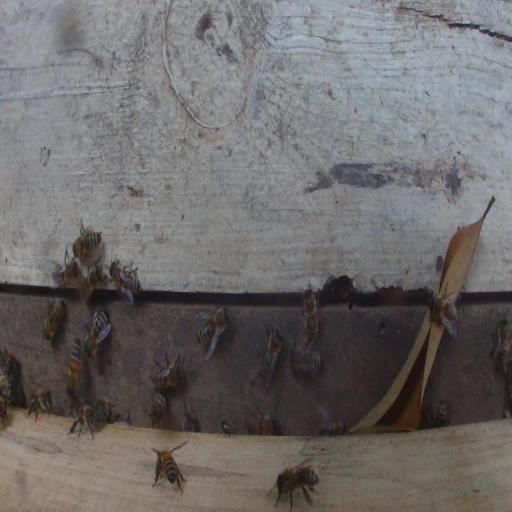nonpollenbee: (269, 459, 319, 509), (197, 304, 231, 362), (257, 324, 284, 388), (152, 444, 186, 492), (83, 306, 111, 362), (108, 259, 140, 306), (428, 292, 459, 338), (52, 244, 81, 288), (289, 339, 322, 376), (151, 352, 183, 390), (73, 220, 103, 259), (69, 400, 98, 439), (43, 296, 66, 342), (65, 337, 81, 398), (26, 387, 53, 422), (85, 261, 109, 297), (493, 322, 508, 379), (303, 289, 319, 341), (1, 346, 19, 388), (245, 412, 277, 435), (149, 391, 167, 428), (182, 401, 201, 433), (95, 395, 113, 423), (1, 377, 11, 424), (319, 421, 350, 436), (433, 399, 448, 427), (220, 420, 237, 435)
